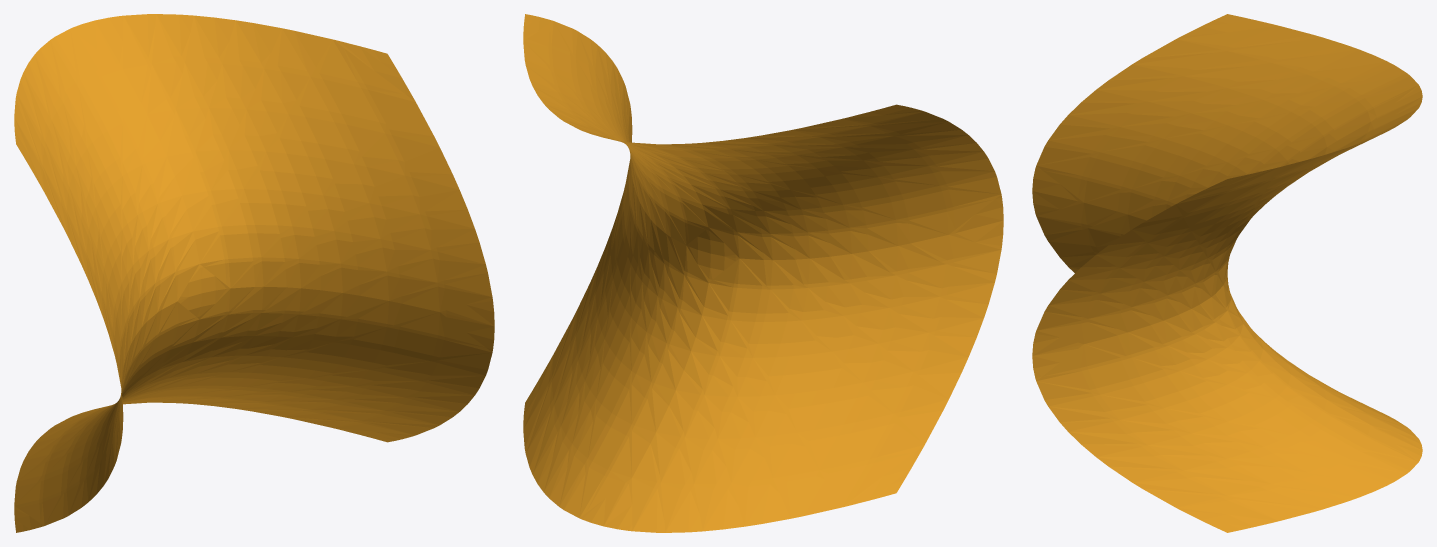
The picture shows the model from 3 angles, left to right: view 1: azimuth 30°, elevation 25°; view 2: azimuth 150°, elevation 25°; view 3: azimuth 270°, elevation 25°; orthographic projection. The views are drawn at different scales.
Visible parts, largest first — view 1: MATHEMATICA_OBJ_MTL1217, MATHEMATICA_OBJ_MTL916, MATHEMATICA_OBJ_MTL1494, MATHEMATICA_OBJ_MTL1442, MATHEMATICA_OBJ_MTL1544, MATHEMATICA_OBJ_MTL1541, MATHEMATICA_OBJ_MTL914, MATHEMATICA_OBJ_MTL1218, MATHEMATICA_OBJ_MTL1358, MATHEMATICA_OBJ_MTL1539, MATHEMATICA_OBJ_MTL1463, MATHEMATICA_OBJ_MTL1461 (+21 smaller); view 2: MATHEMATICA_OBJ_MTL898, MATHEMATICA_OBJ_MTL918, MATHEMATICA_OBJ_MTL1396, MATHEMATICA_OBJ_MTL1459, MATHEMATICA_OBJ_MTL1520, MATHEMATICA_OBJ_MTL1519, MATHEMATICA_OBJ_MTL998, MATHEMATICA_OBJ_MTL919, MATHEMATICA_OBJ_MTL1443, MATHEMATICA_OBJ_MTL1501, MATHEMATICA_OBJ_MTL1392, MATHEMATICA_OBJ_MTL1373 (+21 smaller); view 3: MATHEMATICA_OBJ_MTL1353, MATHEMATICA_OBJ_MTL1511, MATHEMATICA_OBJ_MTL1506, MATHEMATICA_OBJ_MTL1542, MATHEMATICA_OBJ_MTL1363, MATHEMATICA_OBJ_MTL1489, MATHEMATICA_OBJ_MTL1359, MATHEMATICA_OBJ_MTL1510, MATHEMATICA_OBJ_MTL1509, MATHEMATICA_OBJ_MTL1547, MATHEMATICA_OBJ_MTL1430, MATHEMATICA_OBJ_MTL1496 (+31 smaller).
Part boxes in pixels (x1,y1,x2,y2): MATHEMATICA_OBJ_MTL1217: (316,39,357,81); MATHEMATICA_OBJ_MTL916: (368,89,415,125); MATHEMATICA_OBJ_MTL1494: (443,269,492,296); MATHEMATICA_OBJ_MTL1442: (436,237,485,264); MATHEMATICA_OBJ_MTL1544: (123,14,155,58); MATHEMATICA_OBJ_MTL1541: (156,14,190,56); MATHEMATICA_OBJ_MTL914: (392,135,439,164); MATHEMATICA_OBJ_MTL1218: (271,29,306,70); MATHEMATICA_OBJ_MTL1358: (425,202,474,228); MATHEMATICA_OBJ_MTL1539: (194,15,228,58); MATHEMATICA_OBJ_MTL1463: (398,255,437,282); MATHEMATICA_OBJ_MTL1461: (401,285,439,311); MATHEMATICA_OBJ_MTL898: (825,465,866,507); MATHEMATICA_OBJ_MTL918: (877,421,924,457); MATHEMATICA_OBJ_MTL1396: (952,250,1001,277); MATHEMATICA_OBJ_MTL1459: (945,282,994,309); MATHEMATICA_OBJ_MTL1520: (632,488,664,532); MATHEMATICA_OBJ_MTL1519: (665,490,699,532); MATHEMATICA_OBJ_MTL998: (901,382,948,411); MATHEMATICA_OBJ_MTL919: (780,476,815,517); MATHEMATICA_OBJ_MTL1443: (934,318,983,344); MATHEMATICA_OBJ_MTL1501: (703,488,737,531); MATHEMATICA_OBJ_MTL1392: (907,264,946,291); MATHEMATICA_OBJ_MTL1373: (910,235,948,261); MATHEMATICA_OBJ_MTL1353: (1142,486,1220,507); MATHEMATICA_OBJ_MTL1511: (1142,39,1220,60); MATHEMATICA_OBJ_MTL1506: (1234,497,1312,520); MATHEMATICA_OBJ_MTL1542: (1234,26,1312,49); MATHEMATICA_OBJ_MTL1363: (1109,64,1176,84); MATHEMATICA_OBJ_MTL1489: (1109,462,1176,482); MATHEMATICA_OBJ_MTL1359: (1194,474,1260,495); MATHEMATICA_OBJ_MTL1510: (1194,51,1260,72); MATHEMATICA_OBJ_MTL1509: (1277,486,1345,509); MATHEMATICA_OBJ_MTL1547: (1277,37,1345,60); MATHEMATICA_OBJ_MTL1430: (1160,450,1216,470); MATHEMATICA_OBJ_MTL1496: (1160,76,1216,96).
Size of what is drawn, in the model's own units: 2 by 2 by 2.
